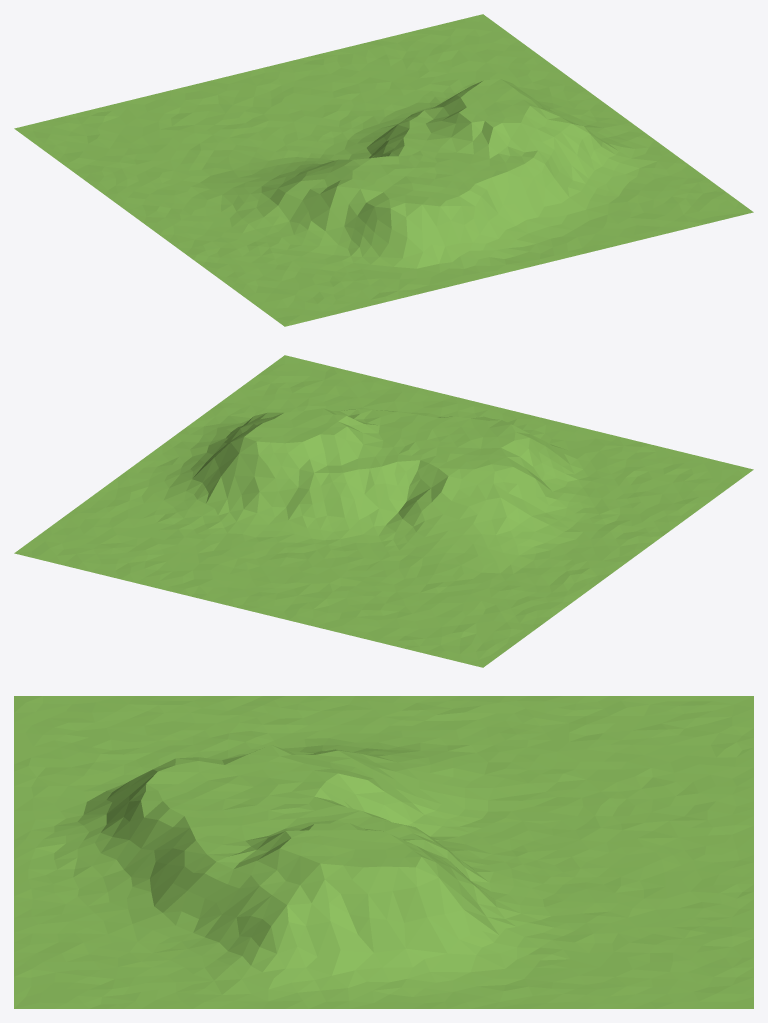
Rendered from MT_Terrain_L_d_01_LOD.fbx.
The picture shows the model from 3 angles, top to bottom: view 1: azimuth 30°, elevation 25°; view 2: azimuth 150°, elevation 25°; view 3: azimuth 270°, elevation 25°; orthographic projection. The views are drawn at different scales.
Parts seen in each view (by area): view 1: MT_Terrain_L_d_01_LOD0; view 2: MT_Terrain_L_d_01_LOD0; view 3: MT_Terrain_L_d_01_LOD0.
Part boxes in pixels (box(x1,y1,x2,y2)): MT_Terrain_L_d_01_LOD0: box(14, 14, 753, 326); MT_Terrain_L_d_01_LOD0: box(14, 355, 753, 667); MT_Terrain_L_d_01_LOD0: box(14, 696, 753, 1008).
Size of what is drawn, in the model's own units: 10000 by 1073 by 10000.
